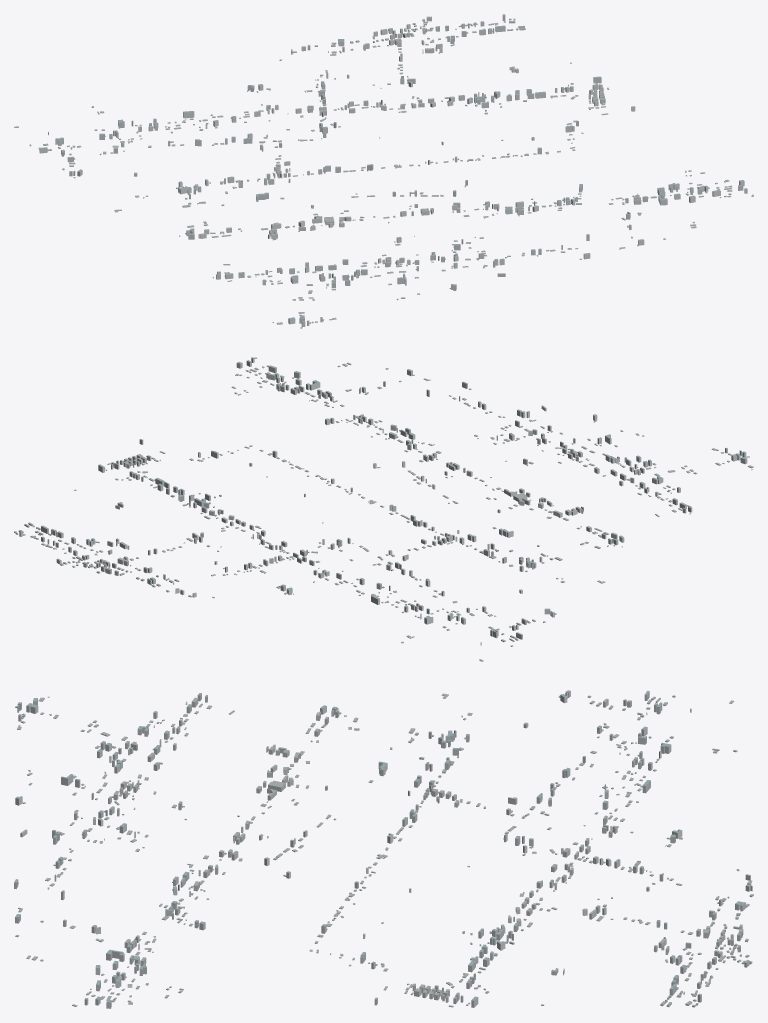
File: far.glb
The picture shows the model from 3 angles, top to bottom: view 1: azimuth 30°, elevation 25°; view 2: azimuth 150°, elevation 25°; view 3: azimuth 270°, elevation 25°; orthographic projection. The views are drawn at different scales.
Size of the model in its own units: 2102 by 25.1 by 2088.
